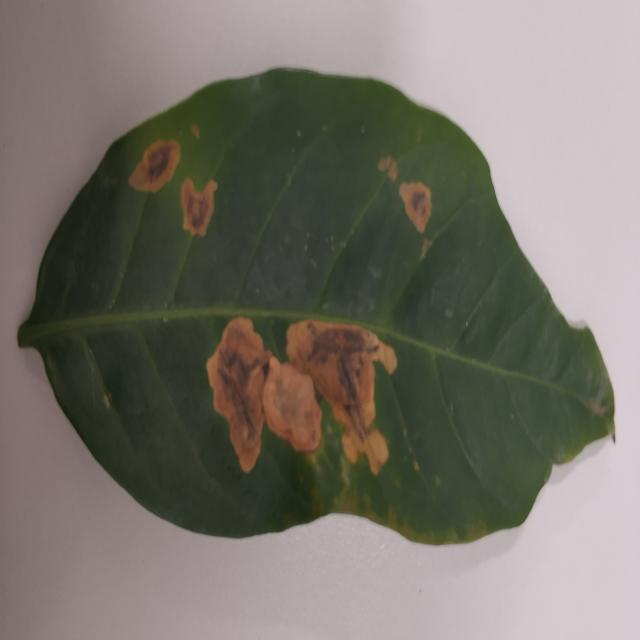Plaga-Minador: (17, 68, 617, 548)
